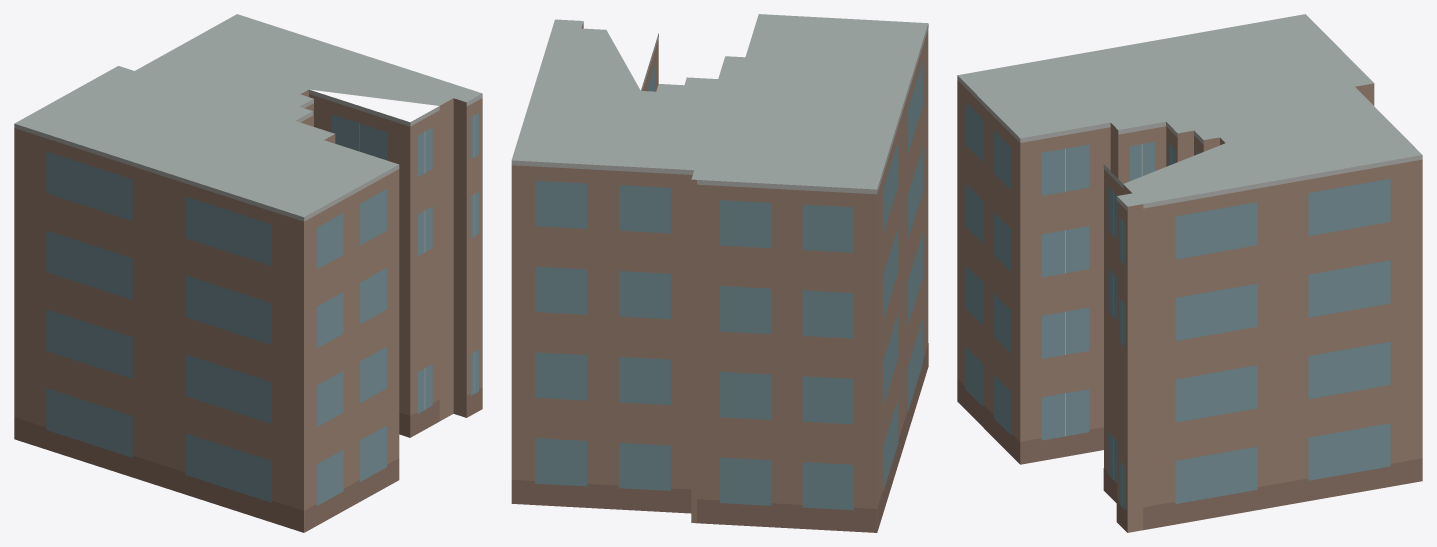
The model's file is survey-upis-32962901.glb.
3 views of the same model, side by side, from view 1: azimuth 30°, elevation 25°; view 2: azimuth 150°, elevation 25°; view 3: azimuth 270°, elevation 25° (orthographic). The views are drawn at different scales.
Visible parts, largest first — view 1: survey-upis-32962901.tmp; view 2: survey-upis-32962901.tmp; view 3: survey-upis-32962901.tmp.
Boxes of the visible parts, x1=… form: survey-upis-32962901.tmp: x1=14, y1=14, x2=482, y2=532; survey-upis-32962901.tmp: x1=511, y1=14, x2=928, y2=532; survey-upis-32962901.tmp: x1=957, y1=14, x2=1422, y2=532.
Size of the model in its own units: 22.19 by 17.5 by 22.63.
